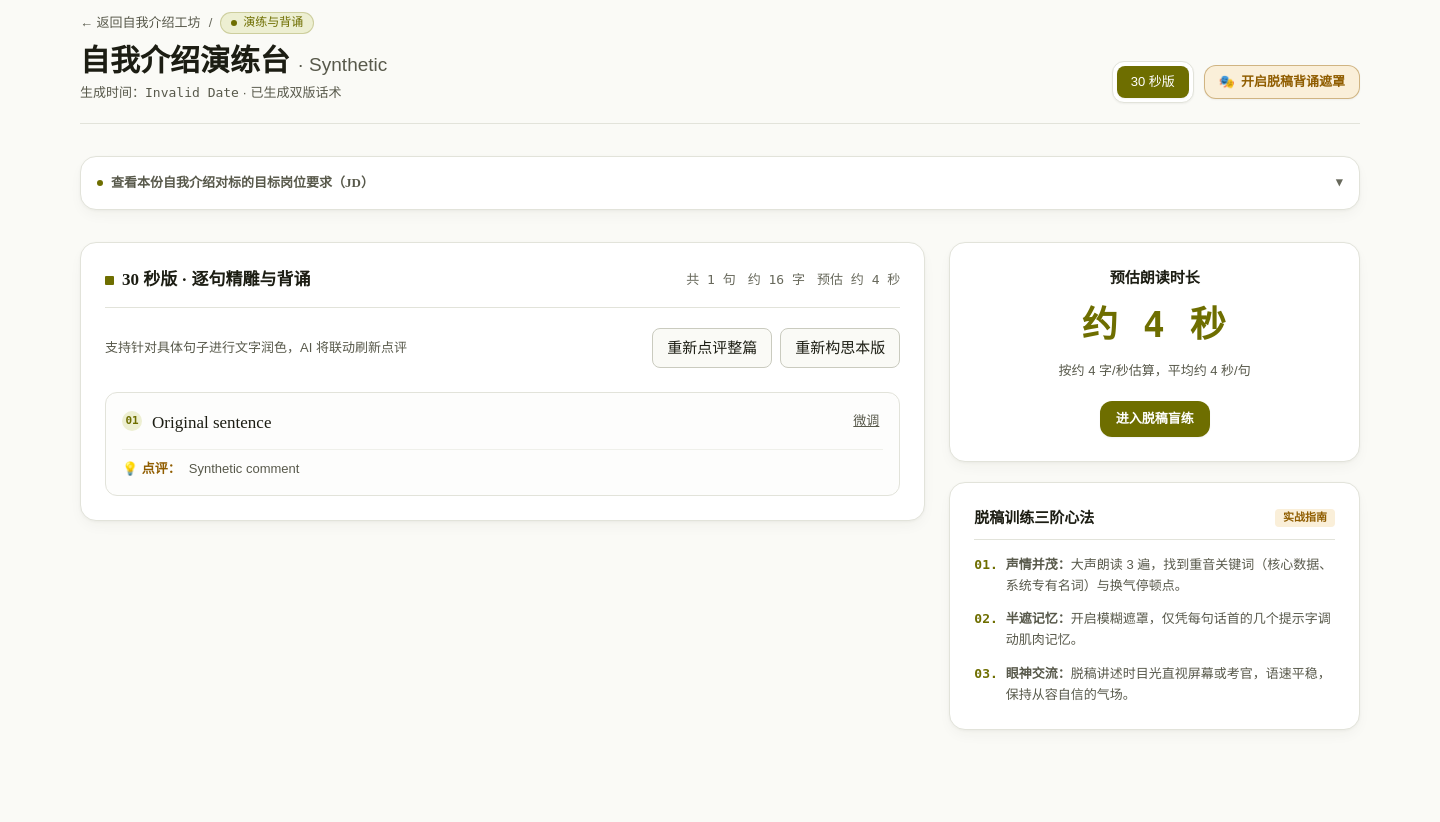
Test case: keeps the draft after a save validation error from the server
Click the button "微调" at (866,421), box x1=849 y1=409 x2=883 y2=433
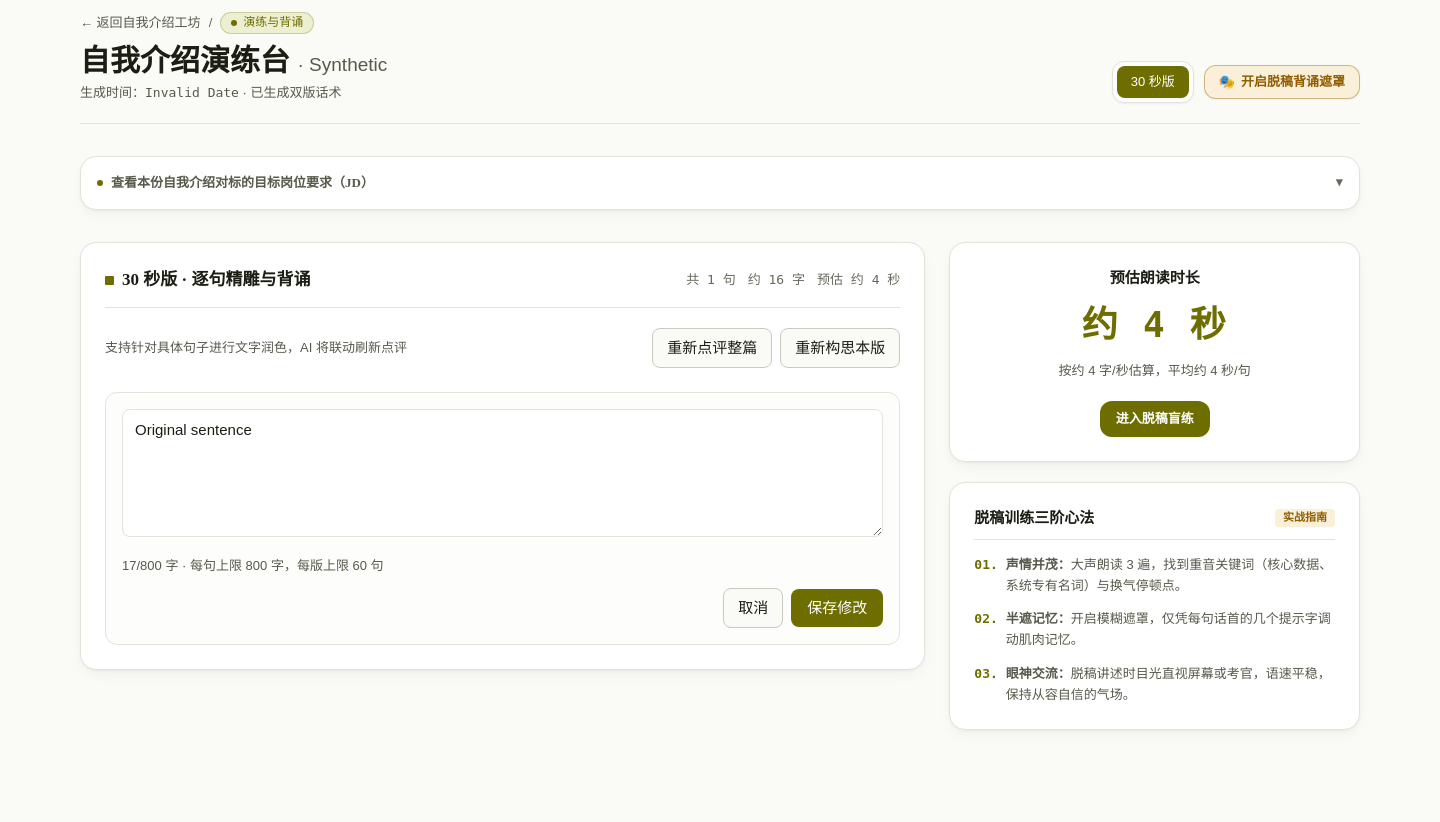
Replace the text in the text box with "完整草稿" at (503,473), box x1=122 y1=409 x2=883 y2=537
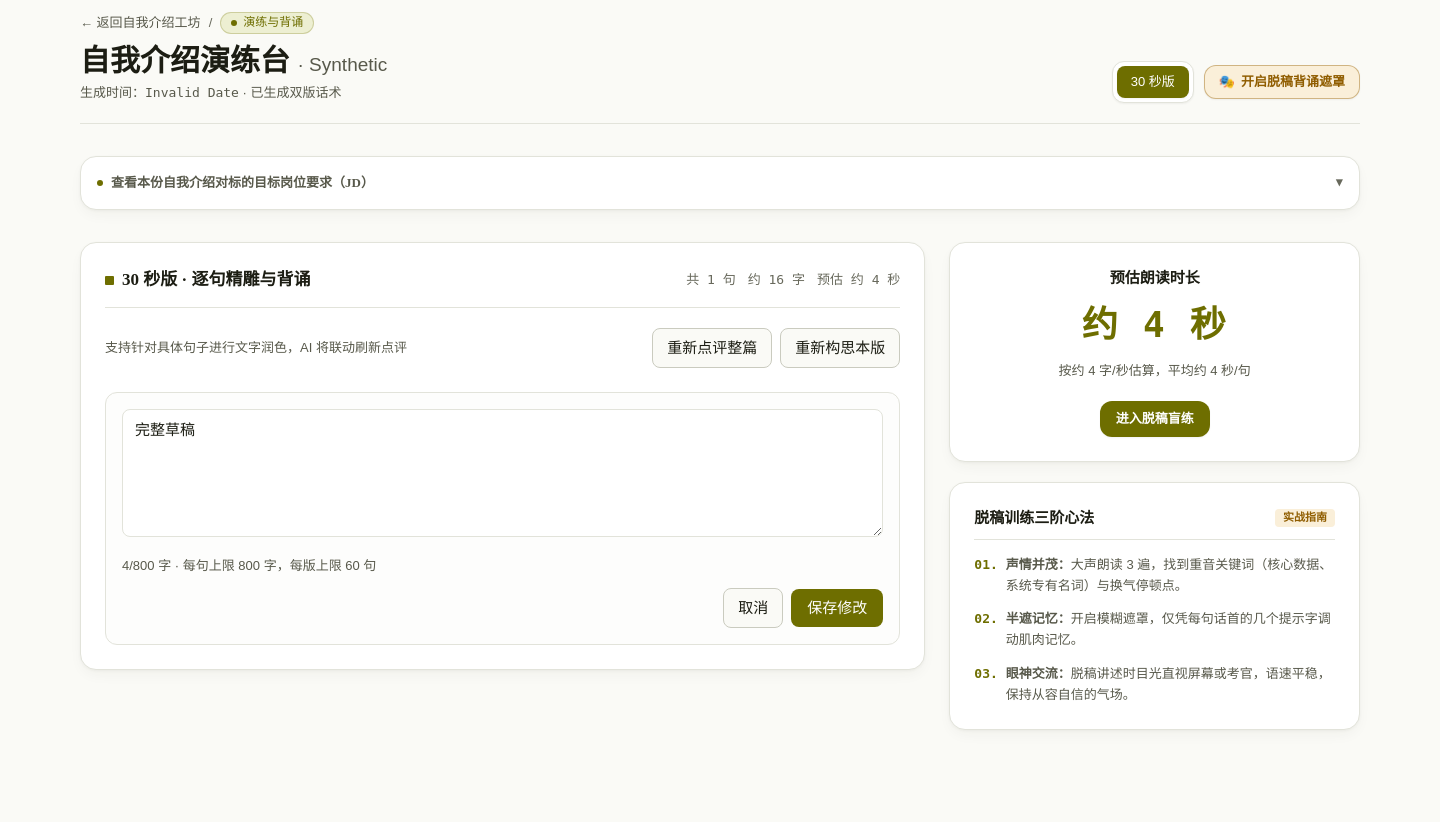
Click the button "保存修改" at (837,608), box x1=791 y1=589 x2=883 y2=627
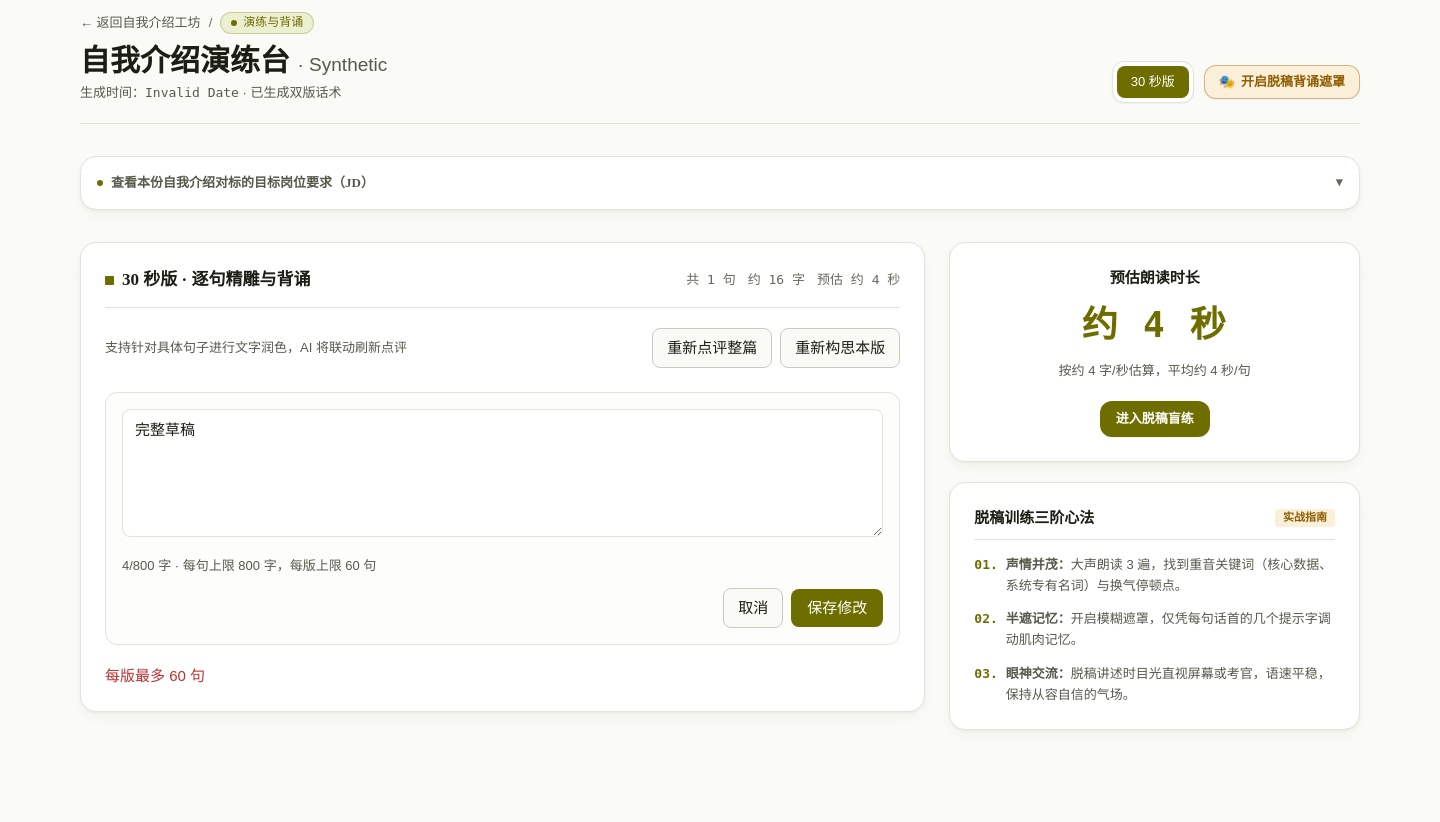
Expected: the text "每版最多 60 句" is shown, x1=105 y1=667 x2=205 y2=684
